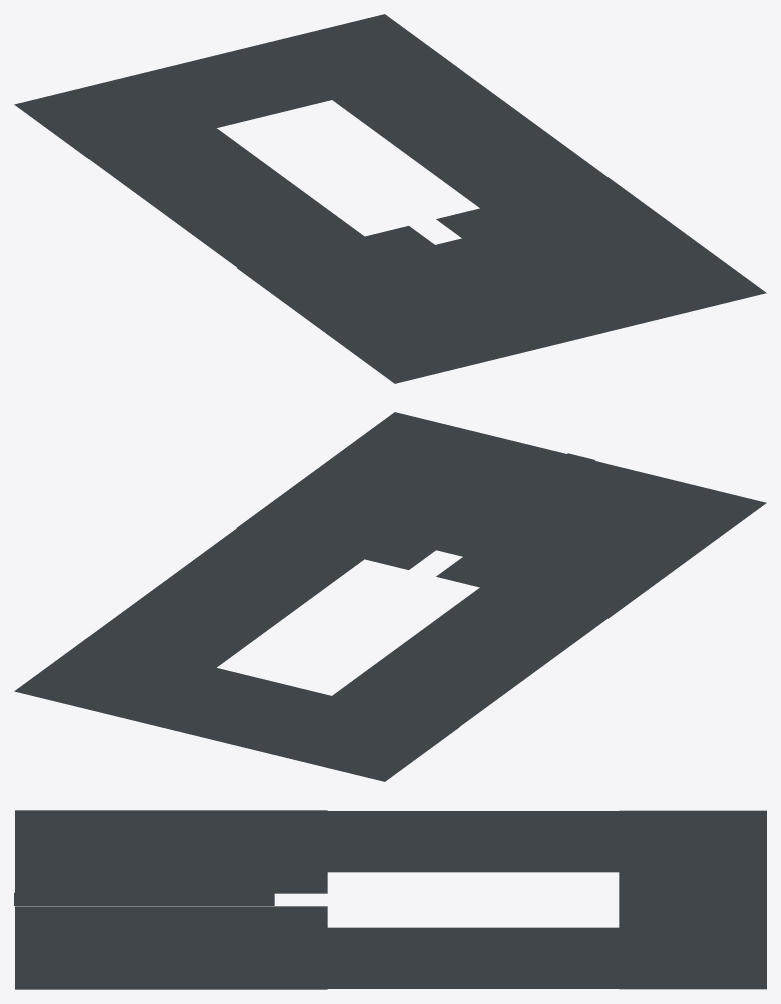
Rendered from Floor Tut1 Lvl1.fbx.
3 views of the same model, one above another, from view 1: azimuth 30°, elevation 25°; view 2: azimuth 150°, elevation 25°; view 3: azimuth 270°, elevation 25° (orthographic).
Parts seen in each view (by area): view 1: Floor Tut Lvl1; view 2: Floor Tut Lvl1; view 3: Floor Tut Lvl1.
Boxes of the visible parts, left/top/right/bottom form: Floor Tut Lvl1: left=14, top=14, right=766, bottom=383; Floor Tut Lvl1: left=14, top=412, right=766, bottom=781; Floor Tut Lvl1: left=14, top=810, right=766, bottom=989.
Size of the model in its own units: 3193 by 4.21 by 5676.
